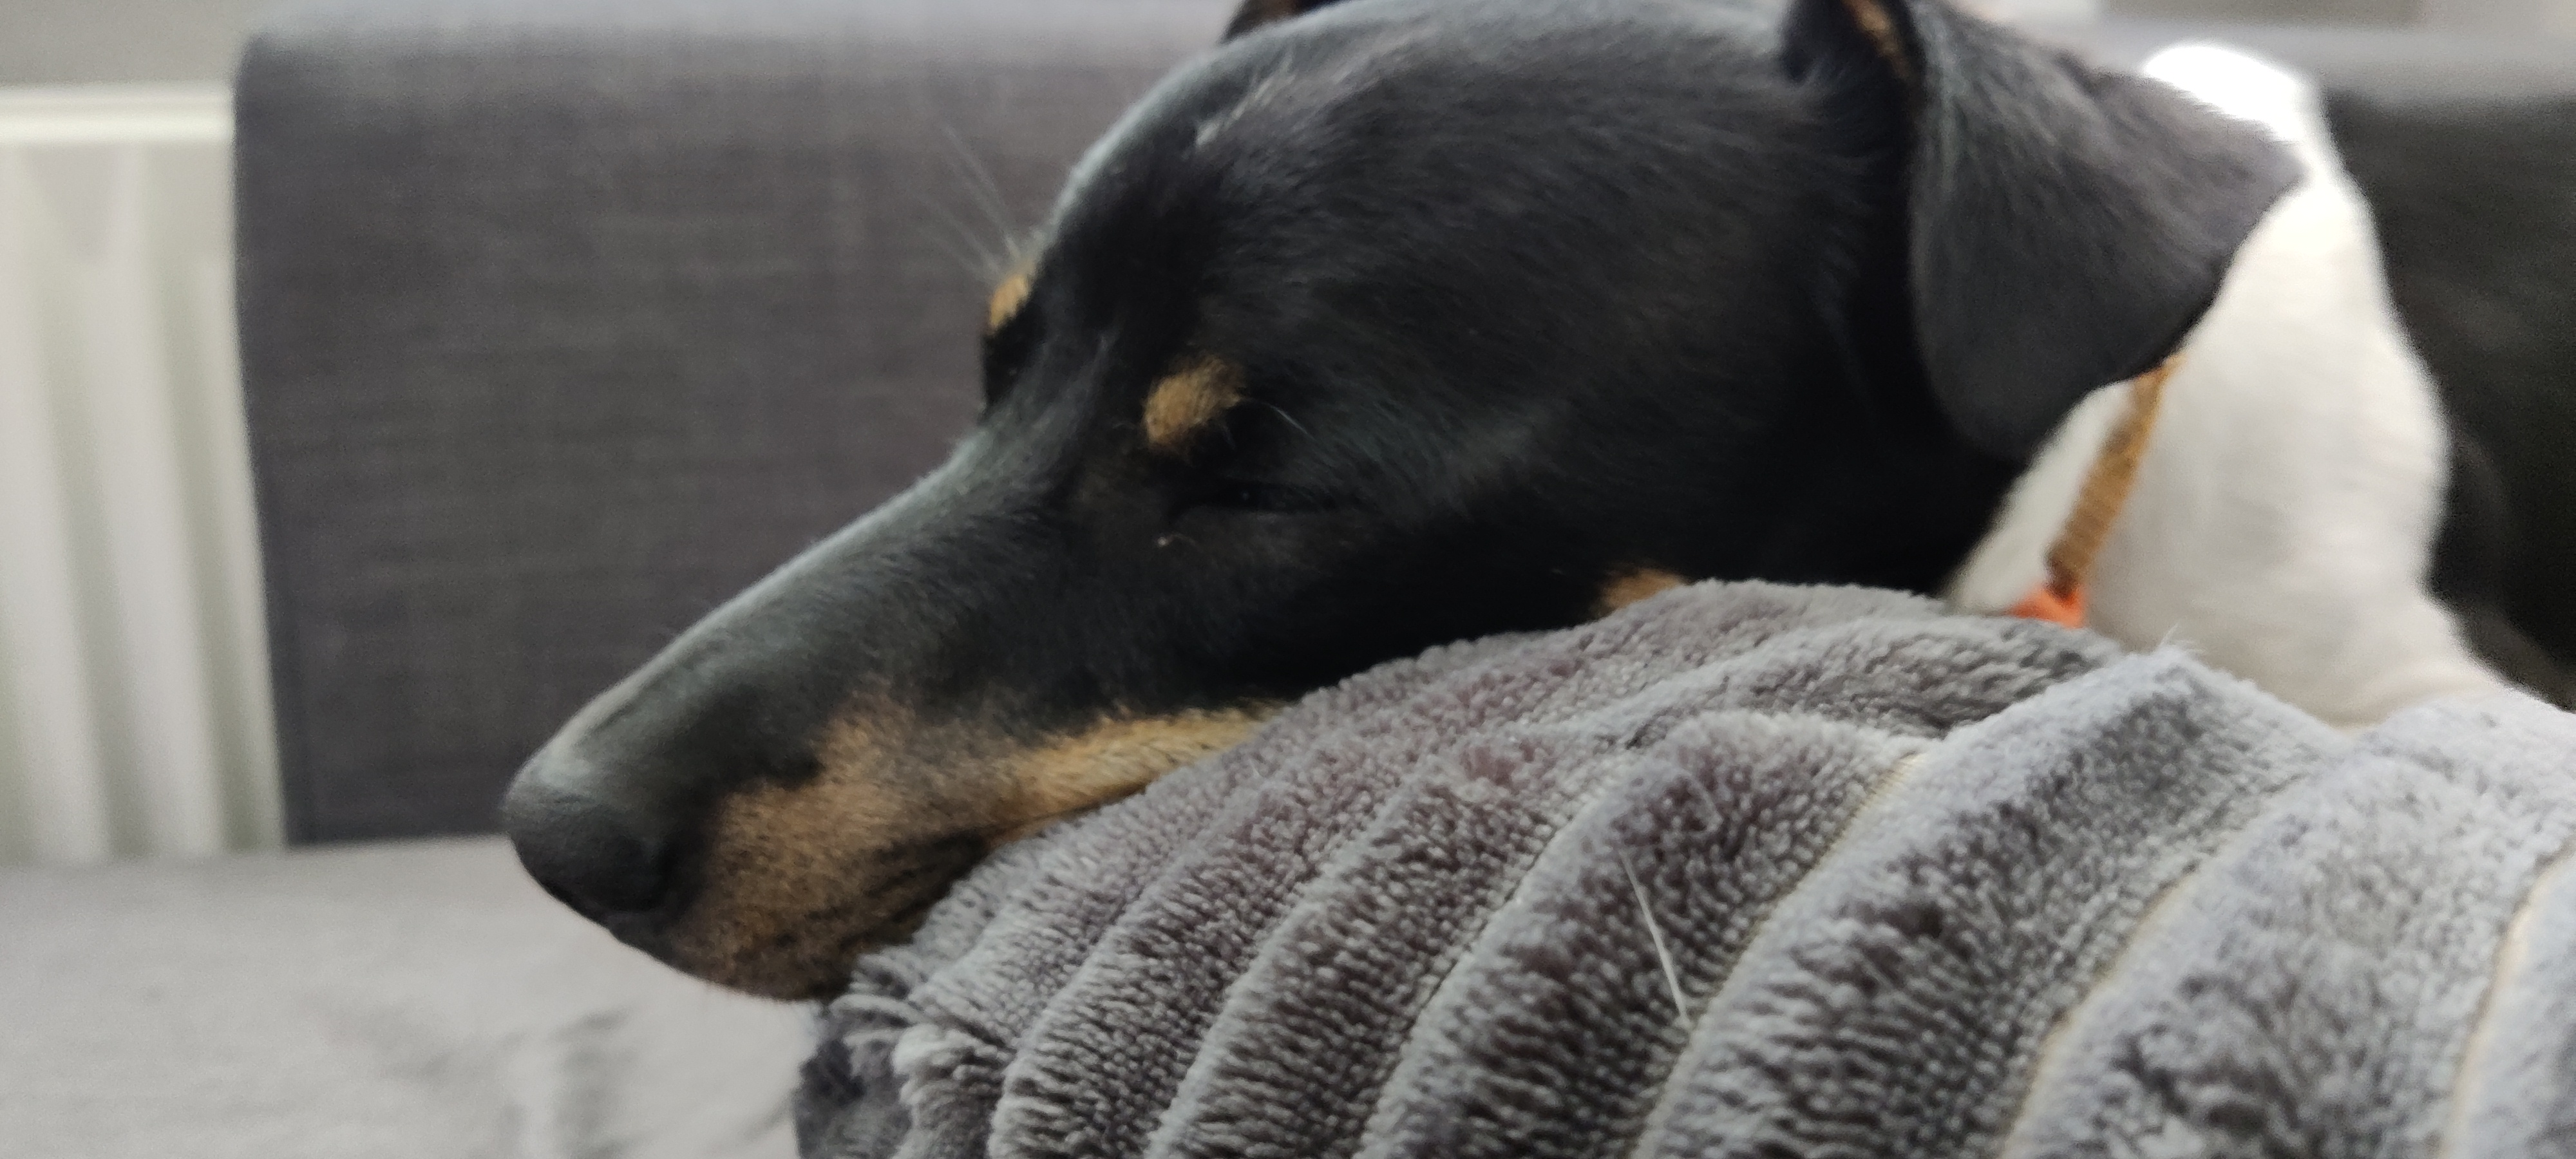Dog: (486, 0, 2576, 1005)
